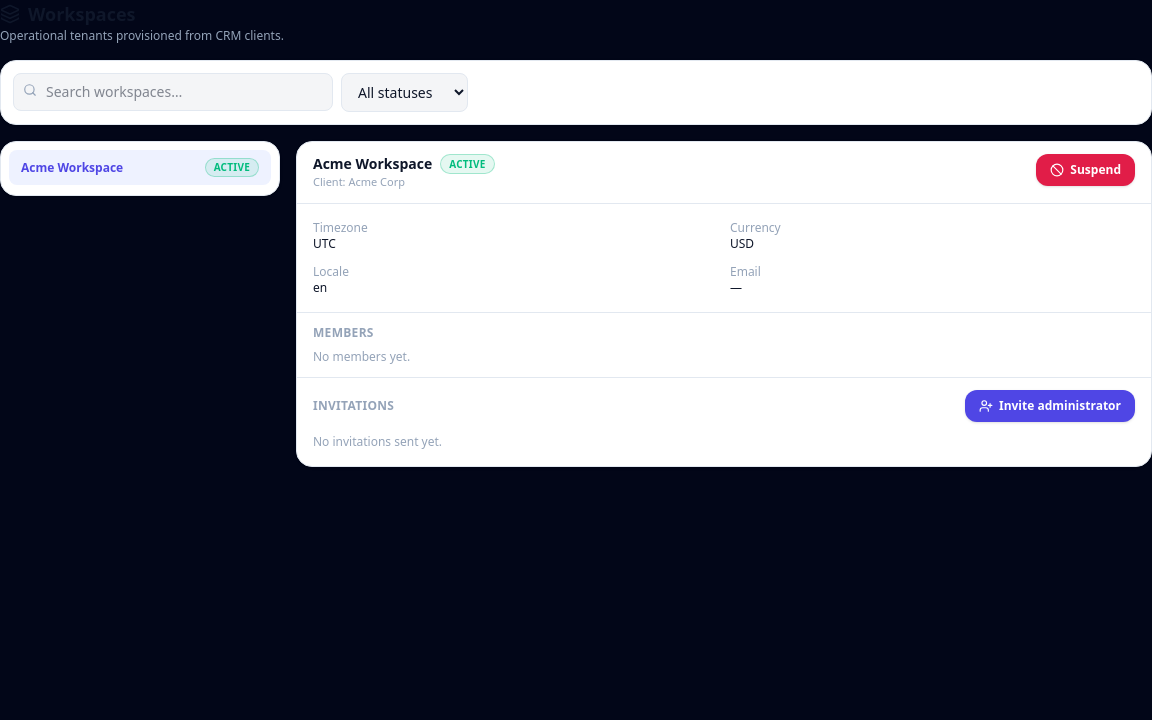
Test: WorkspacesPage › invites a workspace administrator through the real API
Click the button "Invite administrator" at {"x": 1050, "y": 406}, box [965,390,1135,422]
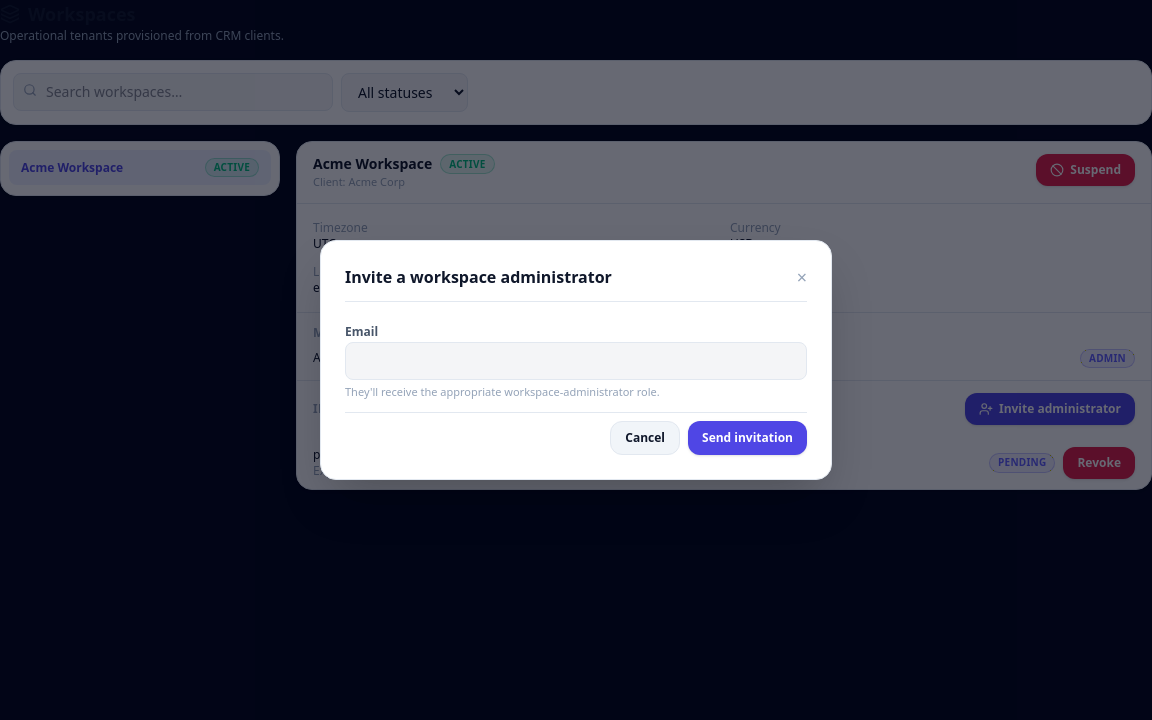
Type "newadmin@acme.com" into the field labelled "Email" at {"x": 576, "y": 361}, box [345,342,807,380]
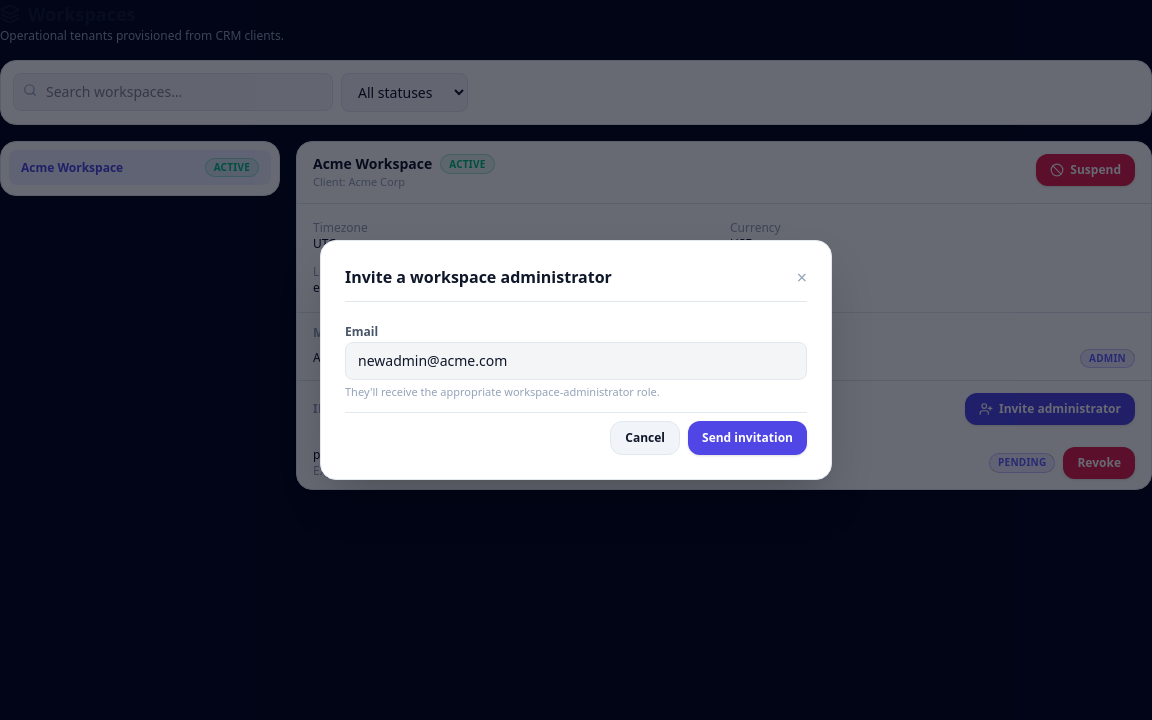
Click the button "Send invitation" at {"x": 748, "y": 438}, box [688,421,807,455]
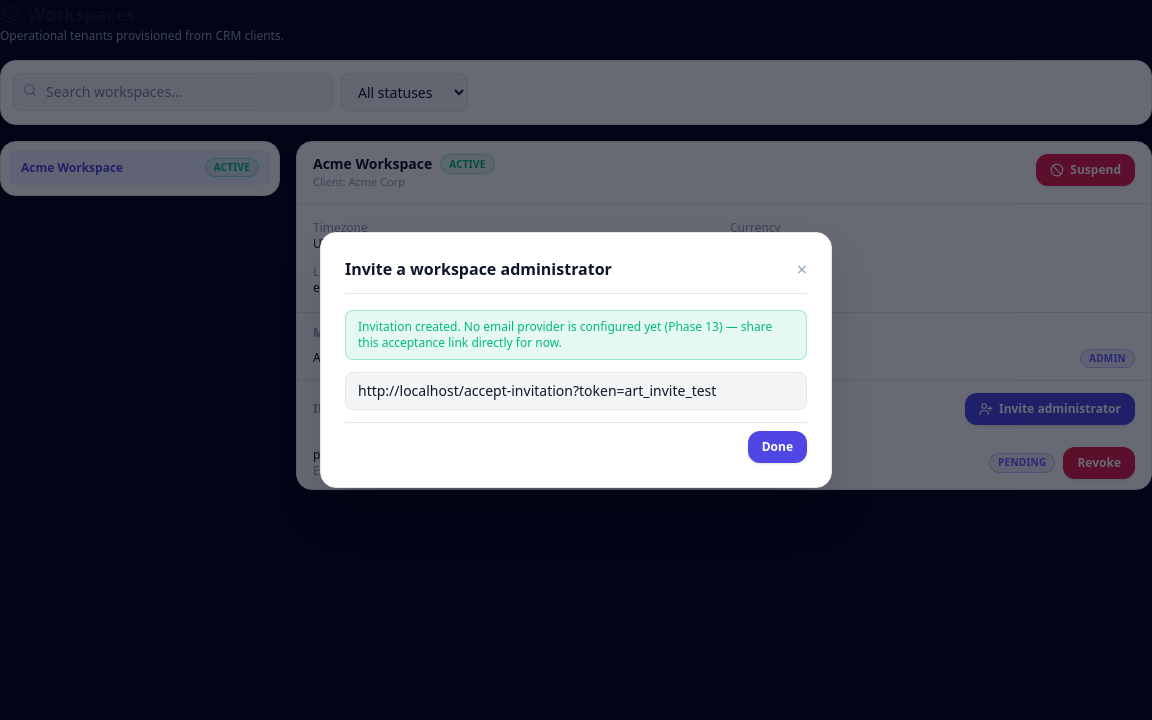
Expected: the field showing "token=art_invite_test" is shown, [345,372,807,410]
